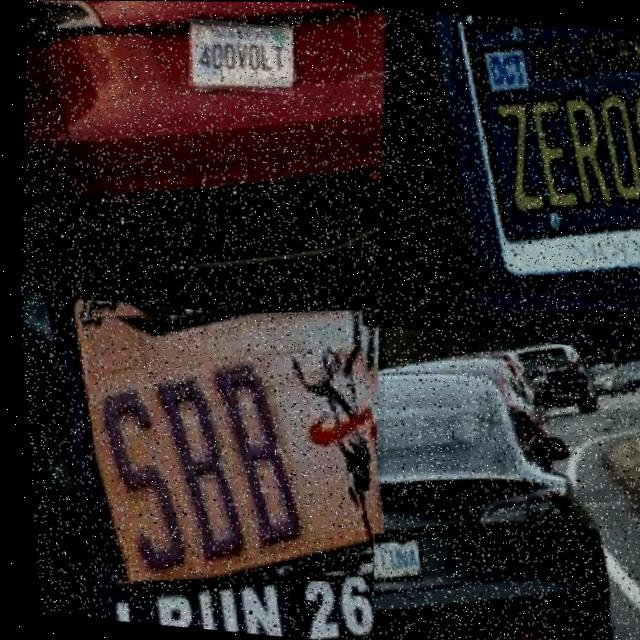LicensePlate: (60, 290, 396, 598), (428, 12, 640, 307), (189, 23, 291, 90), (364, 537, 413, 581)
